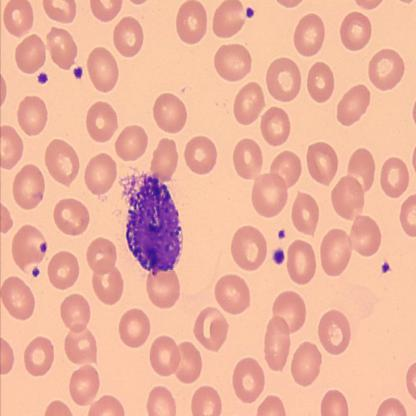Basophil: (123, 172, 184, 279)
